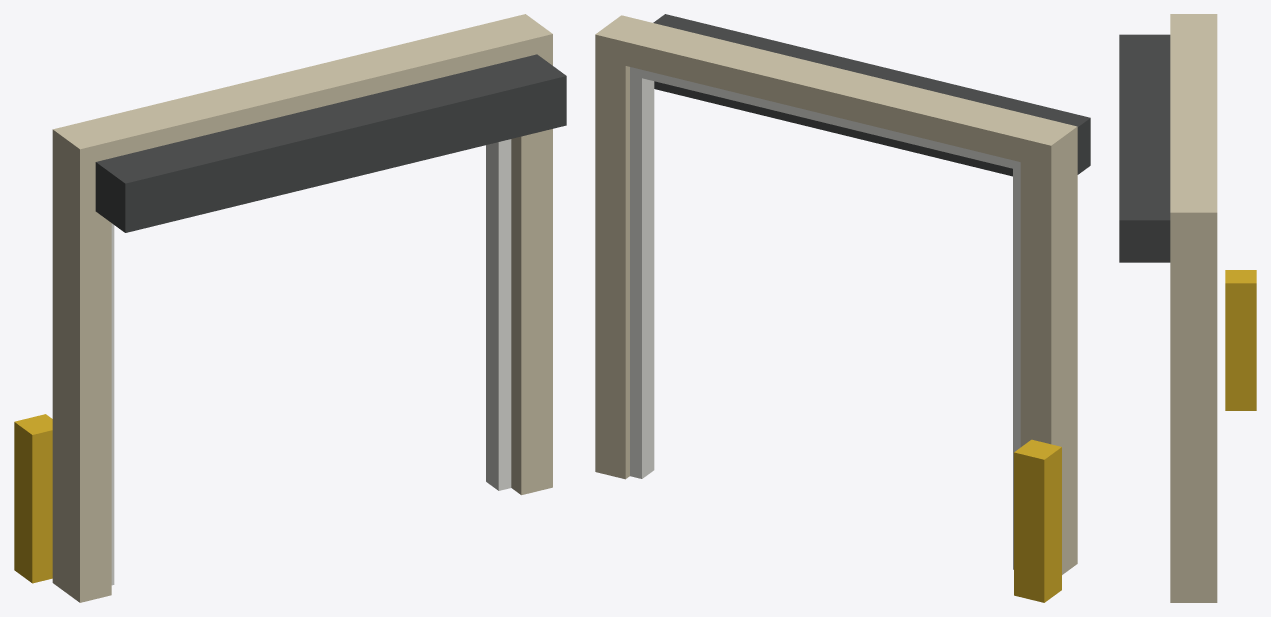
File: Kit_plaster_bigdoor.fbx
3 renders of one model, left to right at view 1: azimuth 30°, elevation 25°; view 2: azimuth 150°, elevation 25°; view 3: azimuth 270°, elevation 25°, orthographic. The views are drawn at different scales.
Visible parts, largest first — view 1: ShutterBox, WallJambL, WallAbove, WallJambR, FrameR, Bollard, FrameL; view 2: WallJambL, WallAbove, WallJambR, FrameR, ShutterBox, Bollard, FrameTop, FrameL; view 3: WallJambR, ShutterBox, WallAbove, Bollard, WallJambL.
Boxes of the visible parts, <box> form: ShutterBox: <box>95,54,566,232</box>; WallJambL: <box>52,122,111,602</box>; WallAbove: <box>84,22,521,157</box>; WallJambR: <box>494,14,552,495</box>; FrameR: <box>486,139,511,490</box>; Bollard: <box>14,414,52,583</box>; FrameL: <box>111,223,114,585</box>; WallJambL: <box>1020,119,1077,574</box>; WallAbove: <box>625,22,1046,161</box>; WallJambR: <box>595,15,651,479</box>; FrameR: <box>630,69,654,478</box>; ShutterBox: <box>653,14,1090,176</box>; Bollard: <box>1014,439,1061,602</box>; FrameTop: <box>630,67,1020,170</box>; FrameL: <box>1013,161,1020,569</box>; WallJambR: <box>1170,199,1217,602</box>; ShutterBox: <box>1119,34,1170,262</box>; WallAbove: <box>1170,27,1217,199</box>; Bollard: <box>1225,270,1256,410</box>; WallJambL: <box>1170,14,1217,27</box>.
Bounding box in the file's own units: 310 × 87.5 × 275.
